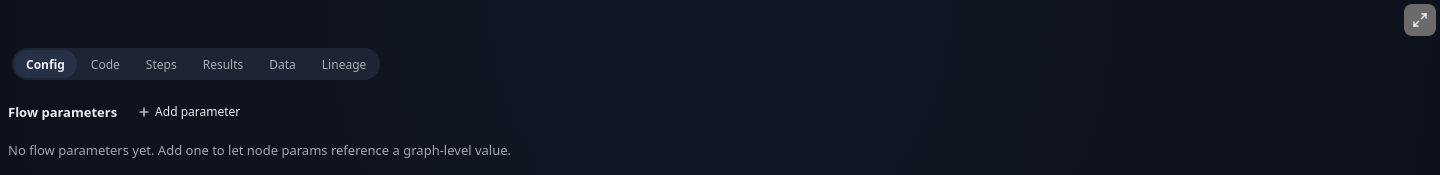
Test: clicking the Code tab shows the code panel and hides the flow-params panel
The width and height of the screenshot is (1440, 175).
Click the button with test id "inspector-tab-code".
click(105, 64)  # box [79, 50, 132, 78]
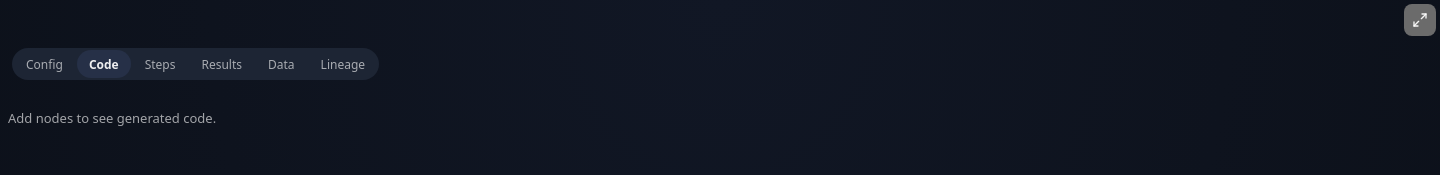
Check: the text "Add nodes to see generated code." is shown, box [8, 109, 216, 127]
Check: the element with test id "flow-params-panel" is gone
